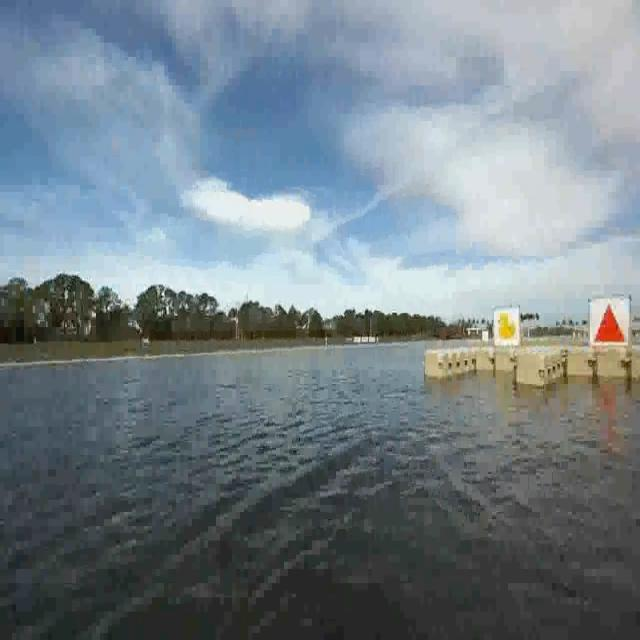red-dot: (590, 292, 631, 344)
yellow-duck: (489, 308, 521, 346)
